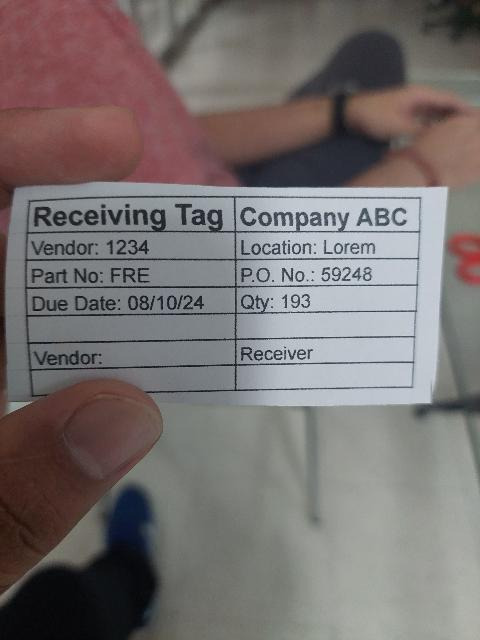PO no: (235, 260, 417, 287)
part no: (27, 260, 235, 289)
qty: (235, 286, 417, 312)
tags: (5, 182, 452, 410)
